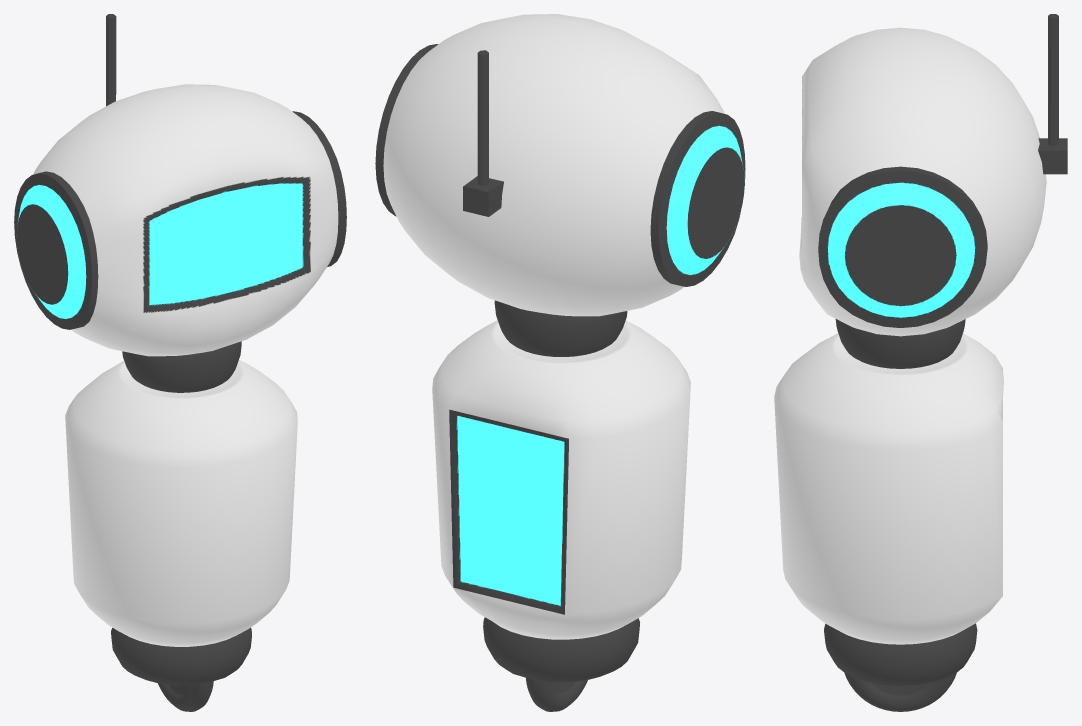
Rendered from robot.glb.
3 views of the same model, side by side, from view 1: azimuth 30°, elevation 25°; view 2: azimuth 150°, elevation 25°; view 3: azimuth 270°, elevation 25° (orthographic). The views are drawn at different scales.
Parts seen in each view (by area): view 1: Sphere.000; view 2: Sphere.000; view 3: Sphere.000.
Part boxes in pixels (left/top/right/bottom): Sphere.000: left=14, top=14, right=346, bottom=711; Sphere.000: left=375, top=14, right=745, bottom=711; Sphere.000: left=774, top=14, right=1067, bottom=711.
Bounding box in the file's own units: 238 × 526 × 201.
Materials: 3 (3 with a texture image).
